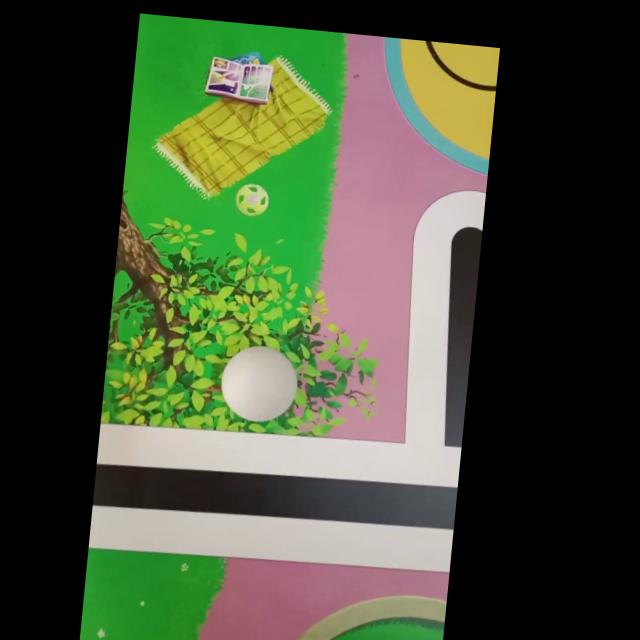white ball: (216, 342, 301, 426)
